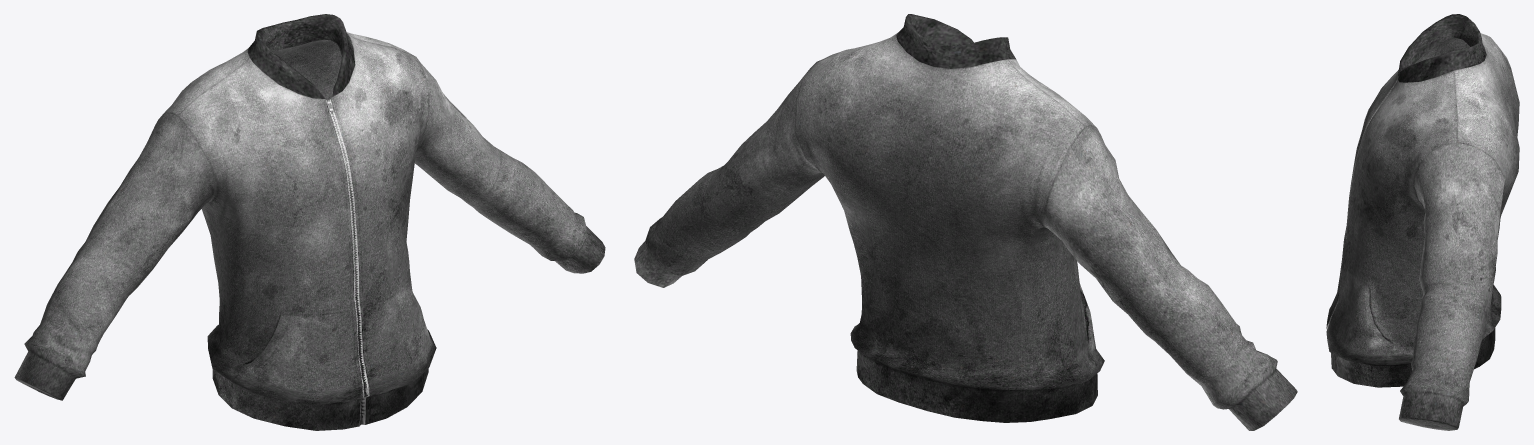
The model's file is SurvivorMale_Chest_Hoodie_NoCollar_LOD0.glb.
3 renders of one model, left to right at view 1: azimuth 30°, elevation 25°; view 2: azimuth 150°, elevation 25°; view 3: azimuth 270°, elevation 25°, orthographic. The views are drawn at different scales.
Parts seen in each view (by area): view 1: Hoodie; view 2: Hoodie; view 3: Hoodie.
Part boxes in pixels (left/top/right/bottom): Hoodie: left=14, top=14, right=605, bottom=430; Hoodie: left=634, top=14, right=1297, bottom=430; Hoodie: left=1326, top=14, right=1519, bottom=430.
Size of the model in its own units: 1.14 by 0.663 by 0.3526.
1 material, 1 textured.
